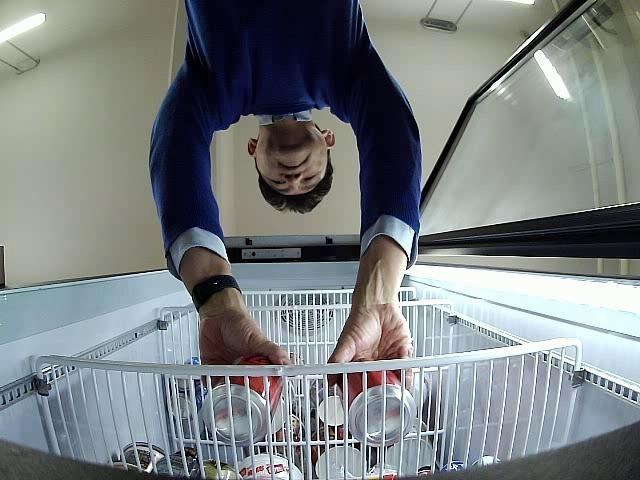11_cocaColaZero: (201, 353, 284, 447), (336, 356, 417, 448)
